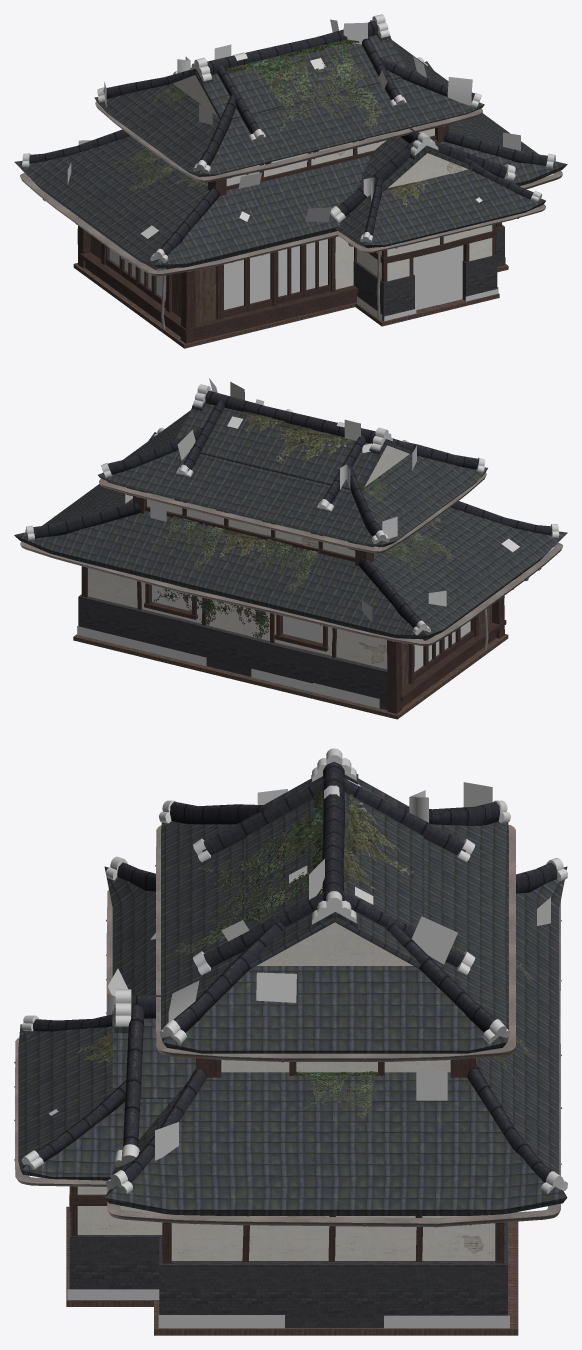
Rendered from House.fbx.
3 renders of one model, top to bottom at view 1: azimuth 30°, elevation 25°; view 2: azimuth 150°, elevation 25°; view 3: azimuth 270°, elevation 25°, orthographic. The views are drawn at different scales.
Parts seen in each view (by area): view 1: MainHouse_01_geo; view 2: MainHouse_01_geo; view 3: MainHouse_01_geo.
Part boxes in pixels (x1,y1,x2,y2): MainHouse_01_geo: (14, 14, 567, 348); MainHouse_01_geo: (14, 378, 567, 719); MainHouse_01_geo: (14, 748, 567, 1335).
Size of the model in its own units: 1921 by 1047 by 1353.
